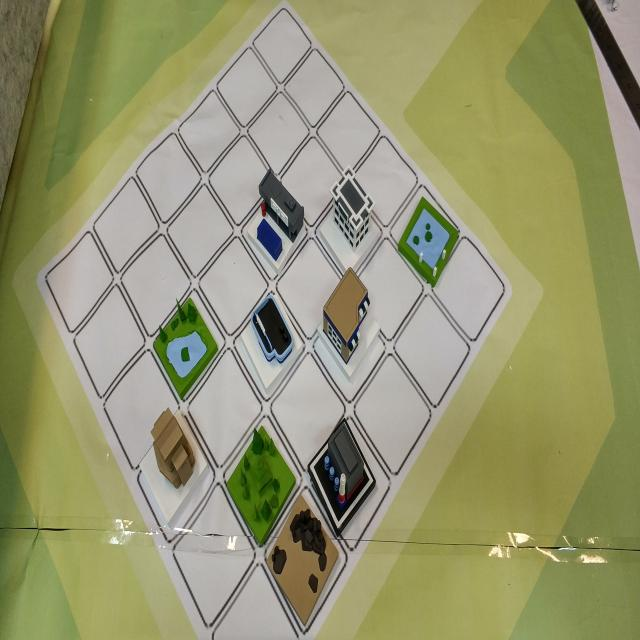bus_stop: (240, 165, 310, 280)
factory: (307, 402, 379, 530)
fish_pool: (398, 187, 465, 299)
forest: (226, 425, 299, 549)
gogo_shop: (234, 281, 302, 397)
research_build: (314, 162, 380, 277)
restaurant: (314, 259, 386, 381)
silicate_rock: (266, 493, 340, 624)
volunteer_center: (129, 401, 205, 521)
wet_land: (151, 286, 227, 406)
